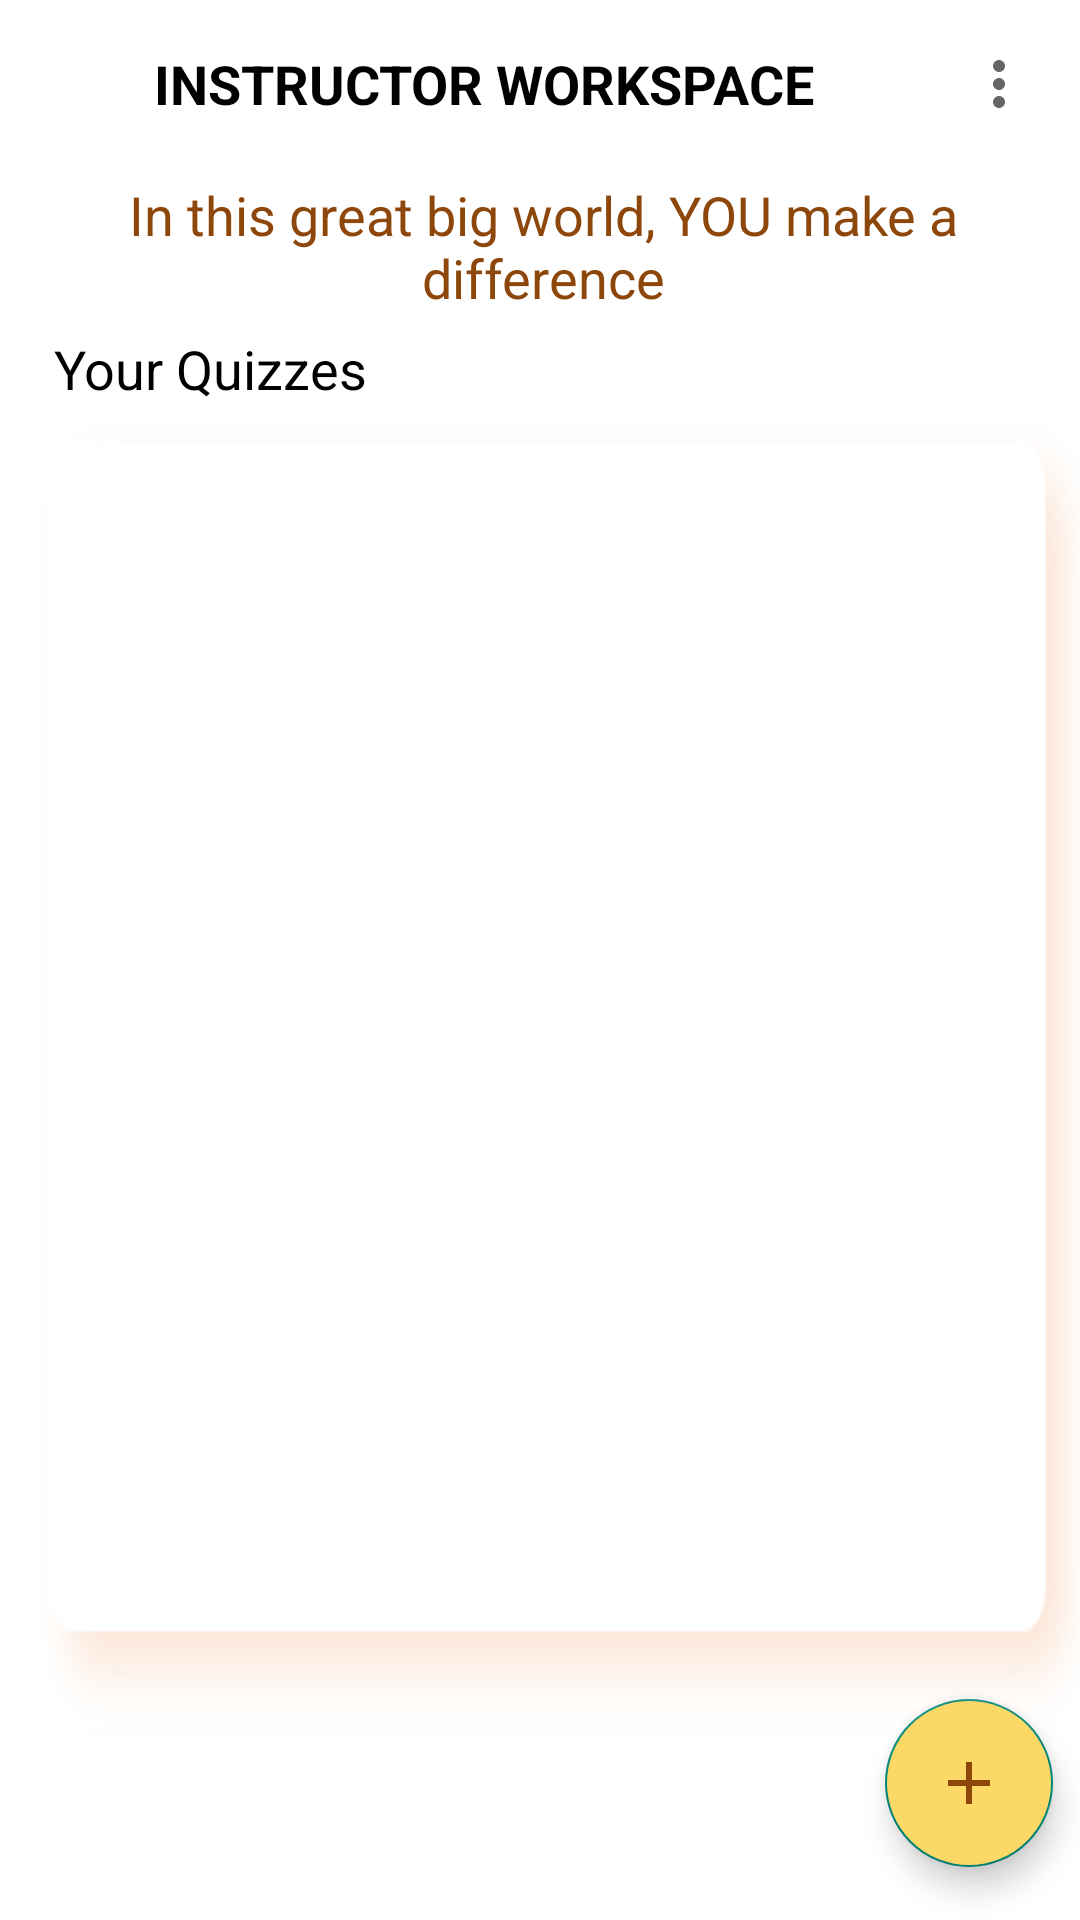

Icons on this 1080px×1920px Android screen, each with the point to tap as point (x, y):
add: point (969, 1783)
